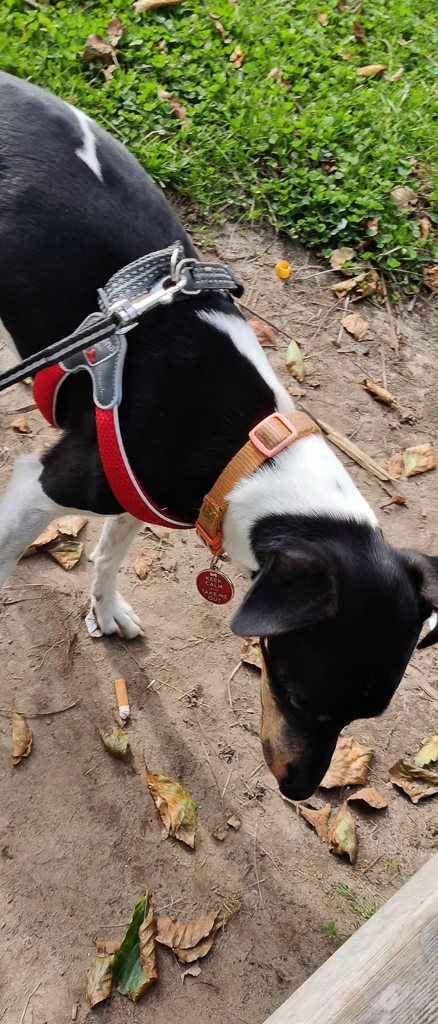Dog: (0, 54, 438, 810)
